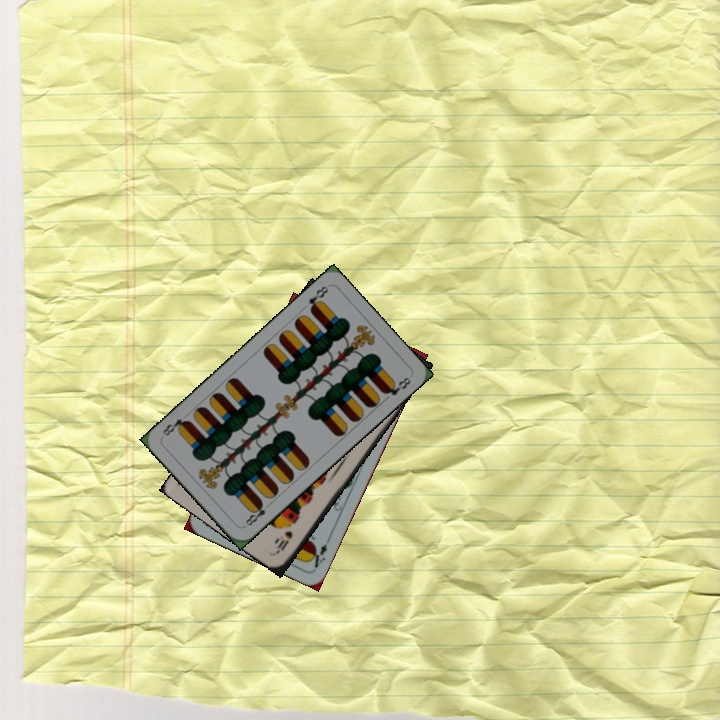E8: (240, 498, 274, 530), (304, 282, 331, 315)
EA: (305, 533, 333, 571)
S10: (273, 527, 295, 555)
